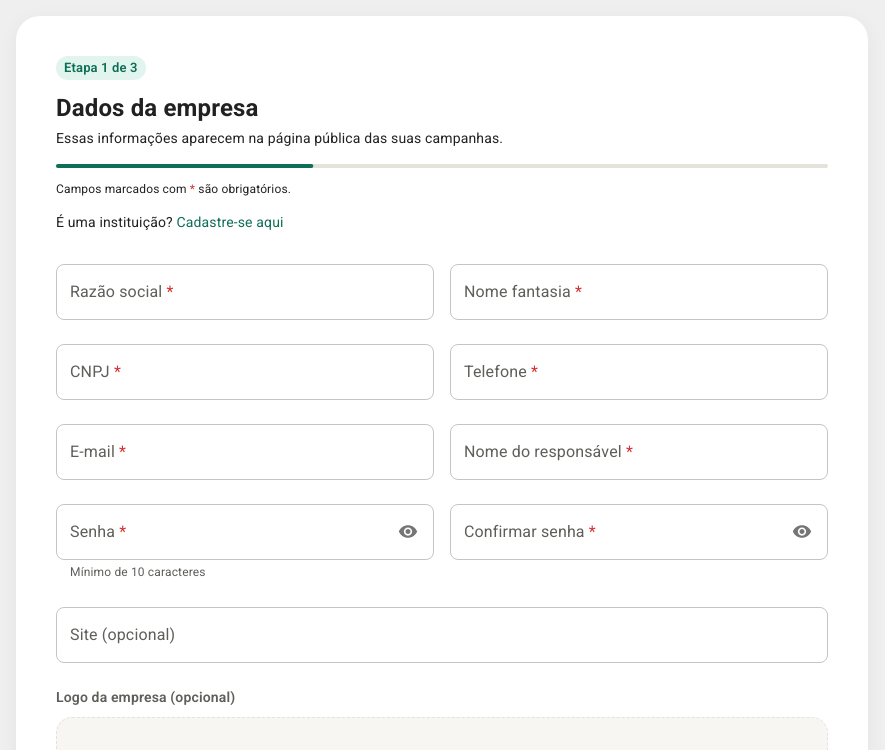
Test case: Property 15 — campo em erro referencia programaticamente sua mensagem › cadastro: campo em erro referencia sua mensagem via aria-describedby
Type "curta" into the password field labelled "Senha *". click: (220, 532)
box: [56, 504, 385, 560]
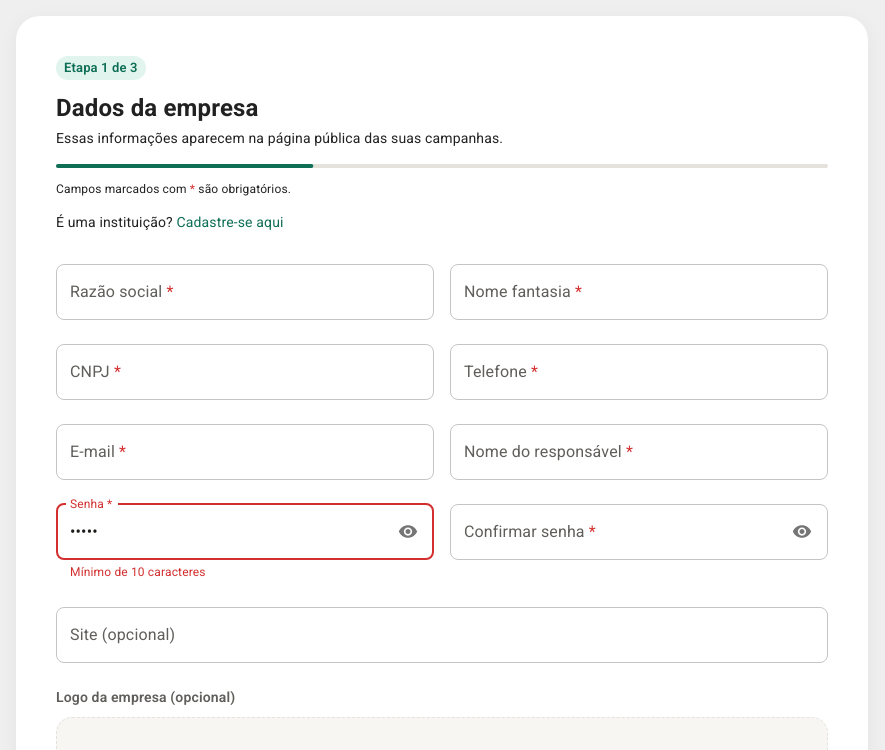
Type "diferente" into the password field labelled "Confirmar senha *". click: (614, 532)
box: [450, 504, 779, 560]
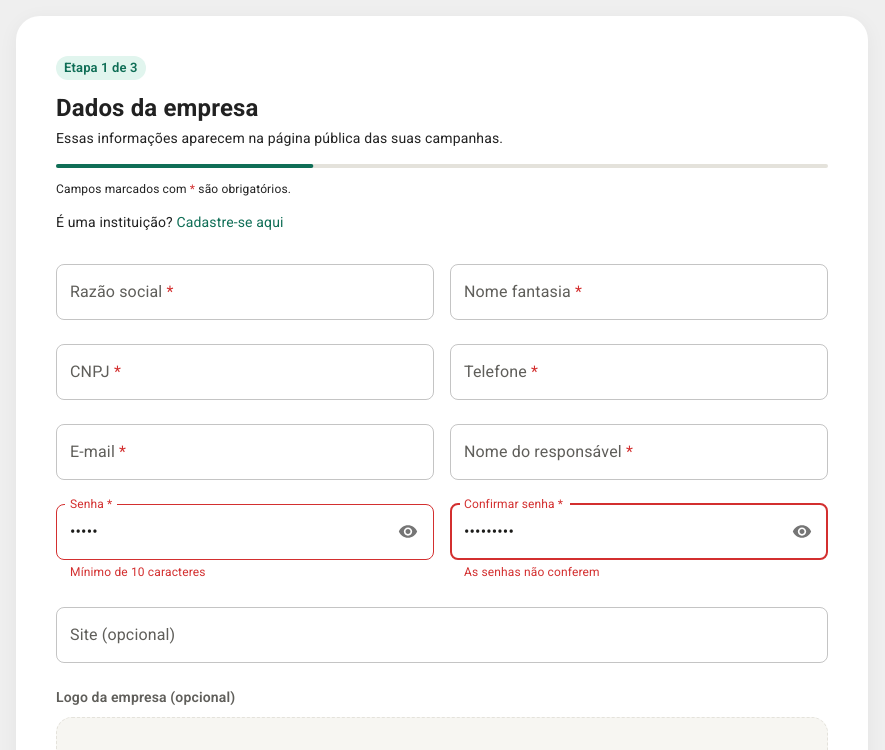
Expected: the text "Mínimo de 10 caracteres" is shown, [70, 565, 206, 579]
Expected: the text "As senhas não conferem" is shown, [464, 565, 600, 579]
